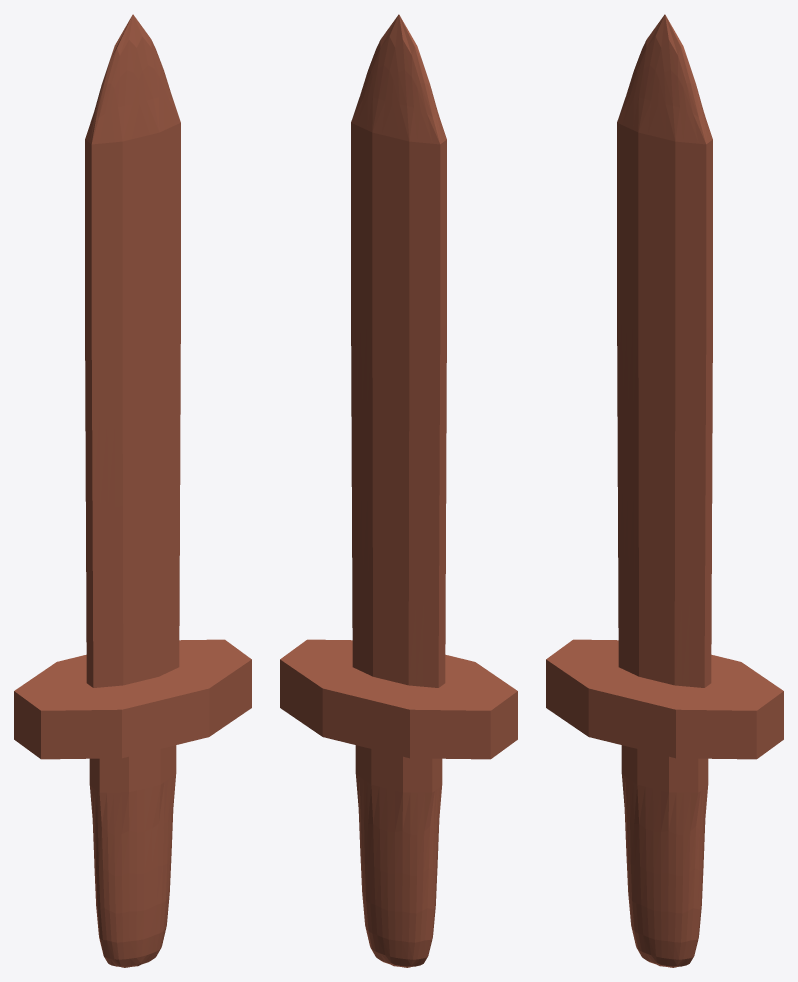
Rendered from wooden__sword.fbx.
3 views of the same model, side by side, from view 1: azimuth 30°, elevation 25°; view 2: azimuth 150°, elevation 25°; view 3: azimuth 330°, elevation 25° (orthographic).
Parts seen in each view (by area): view 1: Object_1; view 2: Object_1; view 3: Object_1.
Boxes of the visible parts, x1,y1,x2,y2 form: Object_1: (14,14,251,967); Object_1: (280,14,517,967); Object_1: (546,14,783,967).
Bounding box in the file's own units: 523 × 281 × 2251.
